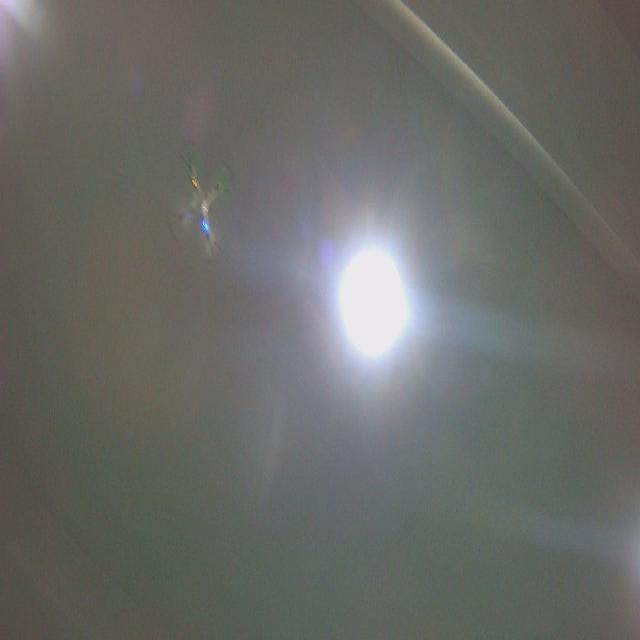drone: (163, 137, 238, 269)
